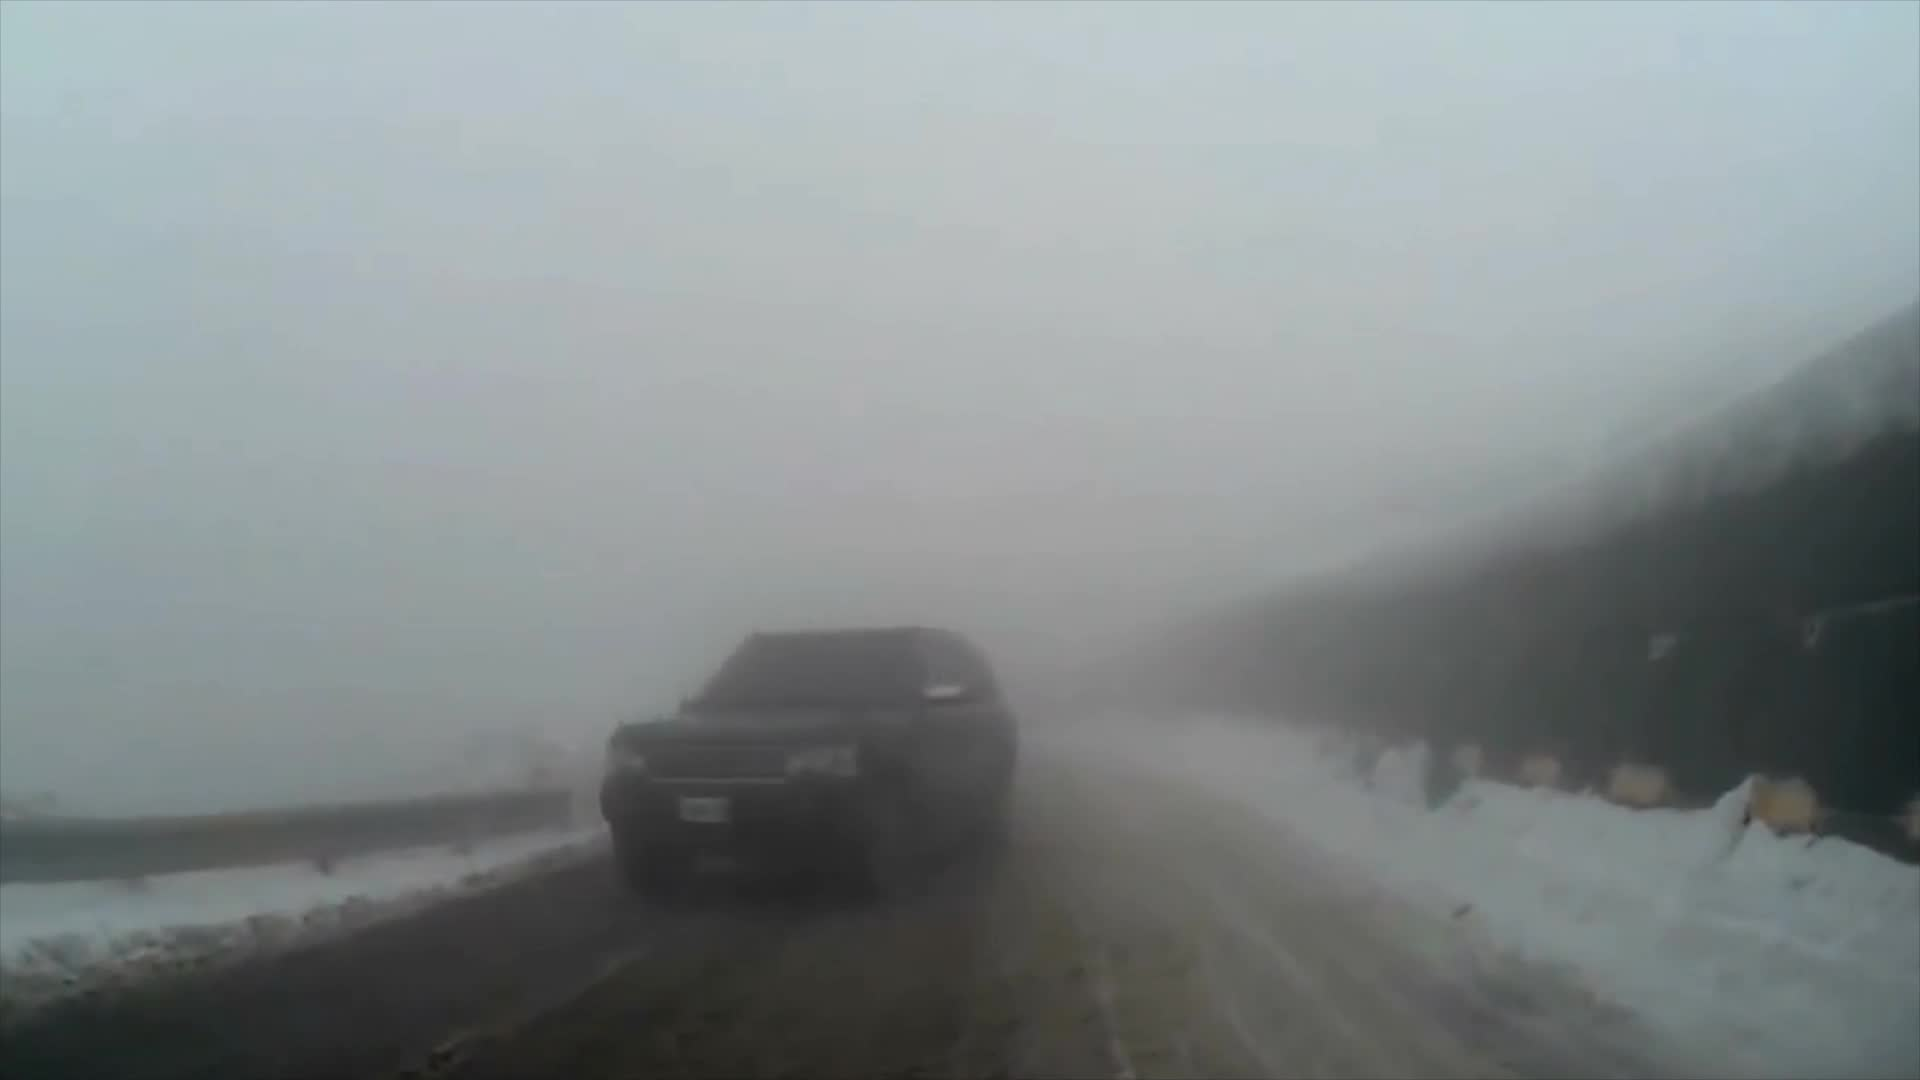vehicle: (609, 621, 1019, 909)
